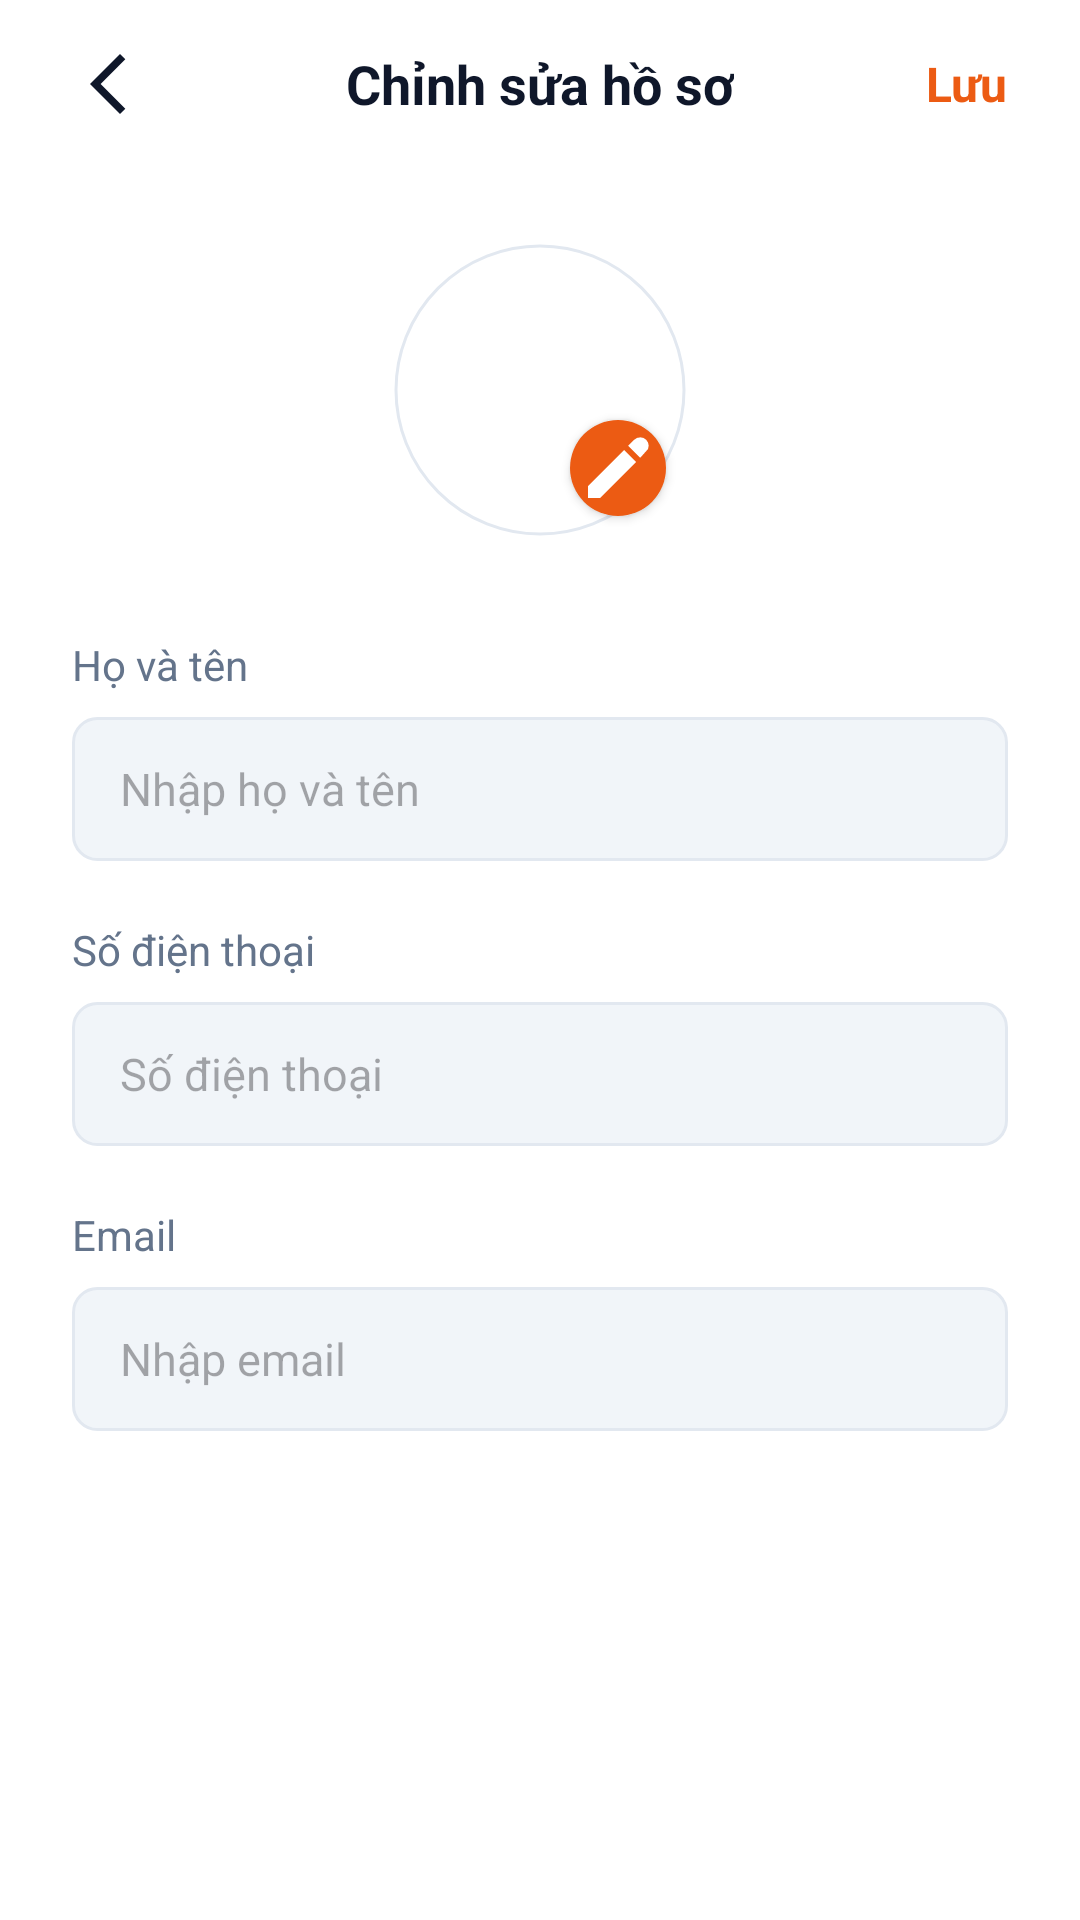

Screen size 1080×1920. Icon name, then its center in pixels as (x=x, y=y):
arrow back: (x=107, y=84)
edit: (x=615, y=465)
